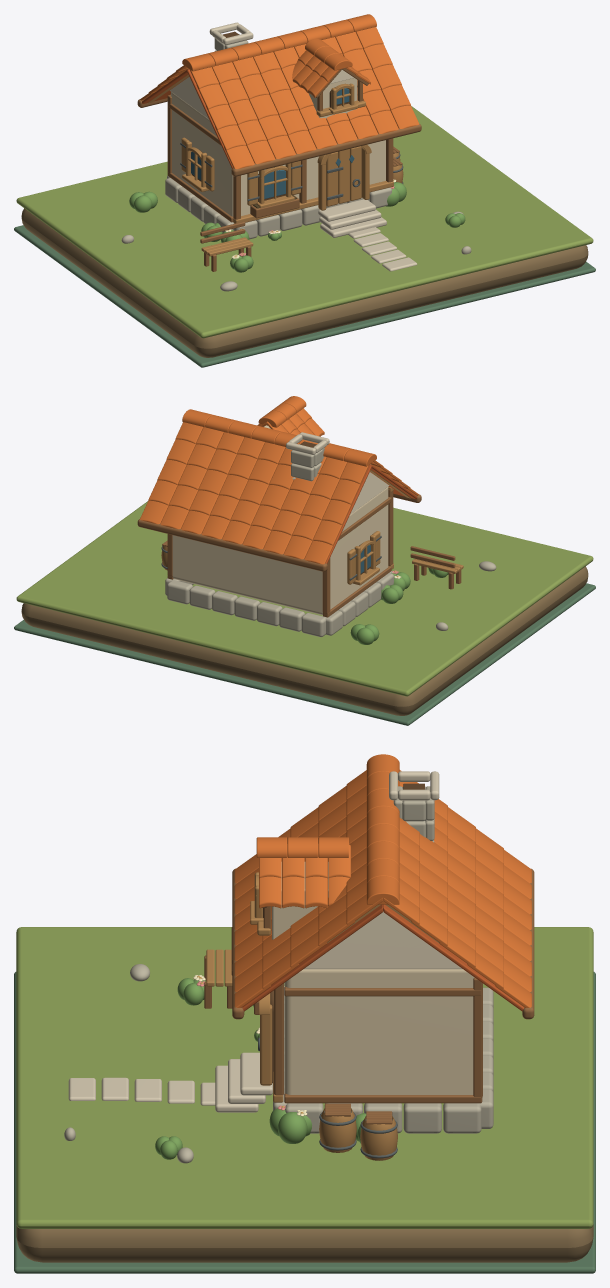
The model's file is cottage-study.glb.
3 views of the same model, one above another, from view 1: azimuth 30°, elevation 25°; view 2: azimuth 150°, elevation 25°; view 3: azimuth 270°, elevation 25° (orthographic). The views are drawn at different scales.
Parts seen in each view (by area): view 1: Cottage_ground, Cottage_clay, Cottage_earth, Cottage_oak_light, Cottage_oak, Cottage_rim, Cottage_plaster, Cottage_stone_light, Cottage_stone, Cottage_leaf, Cottage_glass, Cottage_plaster_light (+1 smaller); view 2: Cottage_ground, Cottage_clay, Cottage_earth, Cottage_plaster, Cottage_stone, Cottage_rim, Cottage_oak, Cottage_oak_light, Cottage_leaf, Cottage_clay_dark, Cottage_plaster_light, Cottage_stone_light; view 3: Cottage_ground, Cottage_clay, Cottage_plaster, Cottage_earth, Cottage_rim, Cottage_oak, Cottage_stone, Cottage_stone_light, Cottage_oak_light, Cottage_plaster_light, Cottage_leaf, Cottage_clay_dark.
Part boxes in pixels (<box>): Cottage_ground: <box>16,106,593,338</box>; Cottage_clay: <box>140,14,419,169</box>; Cottage_earth: <box>21,208,588,357</box>; Cottage_oak_light: <box>148,68,403,256</box>; Cottage_oak: <box>137,68,421,271</box>; Cottage_rim: <box>14,225,595,367</box>; Cottage_plaster: <box>171,78,385,216</box>; Cottage_stone_light: <box>209,22,417,271</box>; Cottage_stone: <box>121,34,471,291</box>; Cottage_leaf: <box>129,182,465,272</box>; Cottage_glass: <box>191,88,354,198</box>; Cottage_plaster_light: <box>170,70,353,118</box>; Cottage_ground: <box>16,501,593,696</box>; Cottage_clay: <box>140,396,418,564</box>; Cottage_earth: <box>21,566,588,715</box>; Cottage_plaster: <box>172,425,388,615</box>; Cottage_stone: <box>165,444,496,637</box>; Cottage_rim: <box>14,583,595,725</box>; Cottage_oak: <box>137,489,461,617</box>; Cottage_oak_light: <box>161,464,463,585</box>; Cottage_leaf: <box>350,567,448,644</box>; Cottage_clay_dark: <box>326,464,417,563</box>; Cottage_plaster_light: <box>350,472,389,514</box>; Cottage_stone_light: <box>286,432,329,454</box>; Cottage_ground: <box>16,927,593,1228</box>; Cottage_clay: <box>234,754,531,1007</box>; Cottage_plaster: <box>272,862,474,1094</box>; Cottage_earth: <box>16,1224,593,1262</box>; Cottage_rim: <box>14,972,595,1273</box>; Cottage_oak: <box>204,868,534,1124</box>; Cottage_stone: <box>64,786,493,1163</box>; Cottage_stone_light: <box>68,771,439,1112</box>; Cottage_oak_light: <box>206,872,439,1160</box>; Cottage_plaster_light: <box>304,911,462,969</box>; Cottage_leaf: <box>155,978,366,1159</box>; Cottage_clay_dark: <box>242,904,524,1011</box>.
Bounding box in the file's own units: 17.12 × 8.46 × 14.12.
